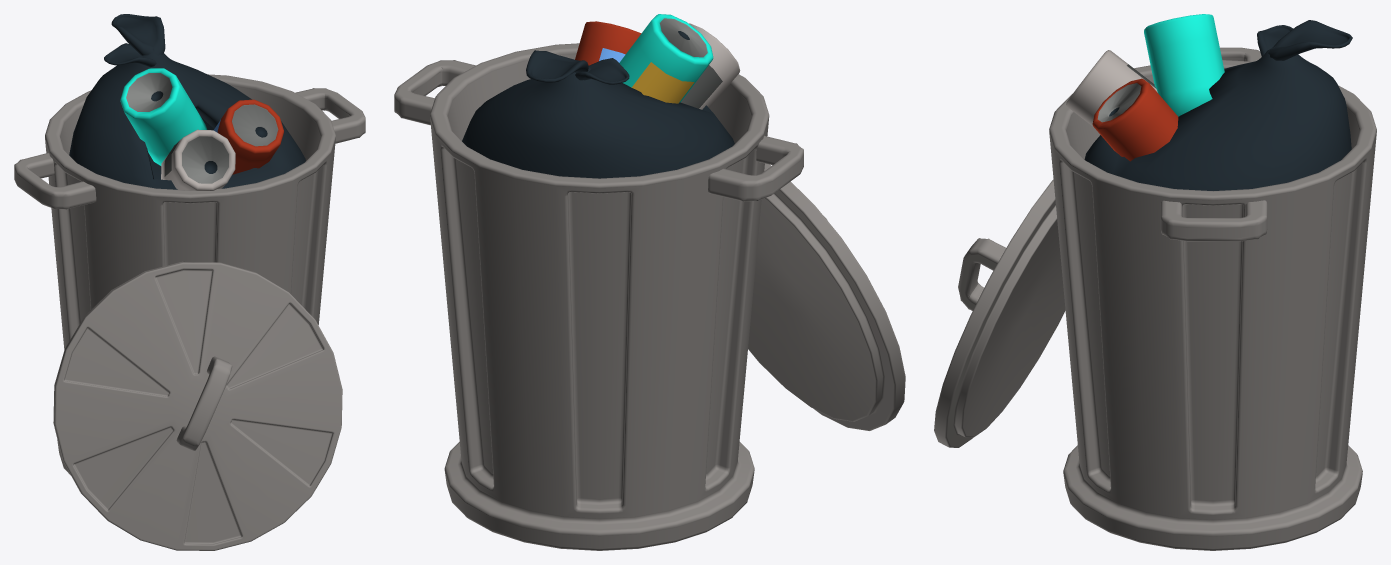
Rendered from SM_Eimer_02.fbx.
The picture shows the model from 3 angles, left to right: view 1: azimuth 30°, elevation 25°; view 2: azimuth 150°, elevation 25°; view 3: azimuth 270°, elevation 25°; orthographic projection. The views are drawn at different scales.
Visible parts, largest first — view 1: Eimer_02.001; view 2: Eimer_02.001; view 3: Eimer_02.001.
Part boxes in pixels (box(x1,y1,x2,y2)): Eimer_02.001: box(14, 14, 365, 550); Eimer_02.001: box(394, 14, 905, 550); Eimer_02.001: box(934, 14, 1376, 550).
Bounding box in the file's own units: 129 × 139 × 123.
